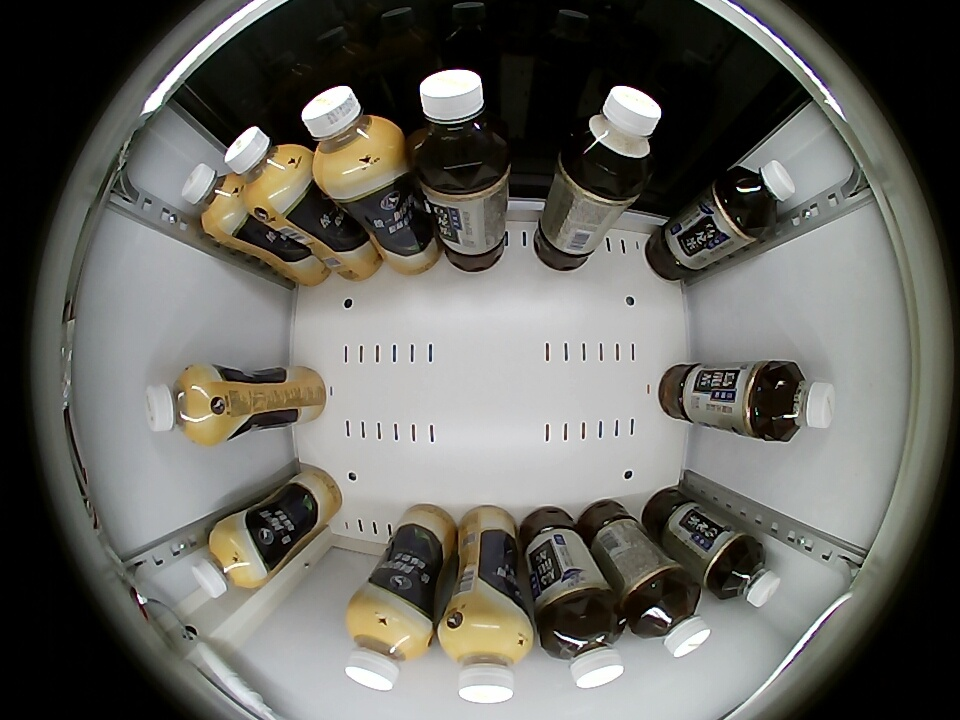asamu: (301, 84, 401, 185), (440, 617, 533, 704), (345, 606, 431, 692), (224, 126, 309, 211), (144, 365, 223, 444), (192, 520, 266, 599), (181, 163, 246, 239)
wulongcha: (407, 68, 511, 180), (562, 85, 661, 191), (542, 603, 626, 689), (632, 578, 711, 658), (760, 361, 836, 443), (726, 159, 796, 231), (711, 538, 782, 608)
